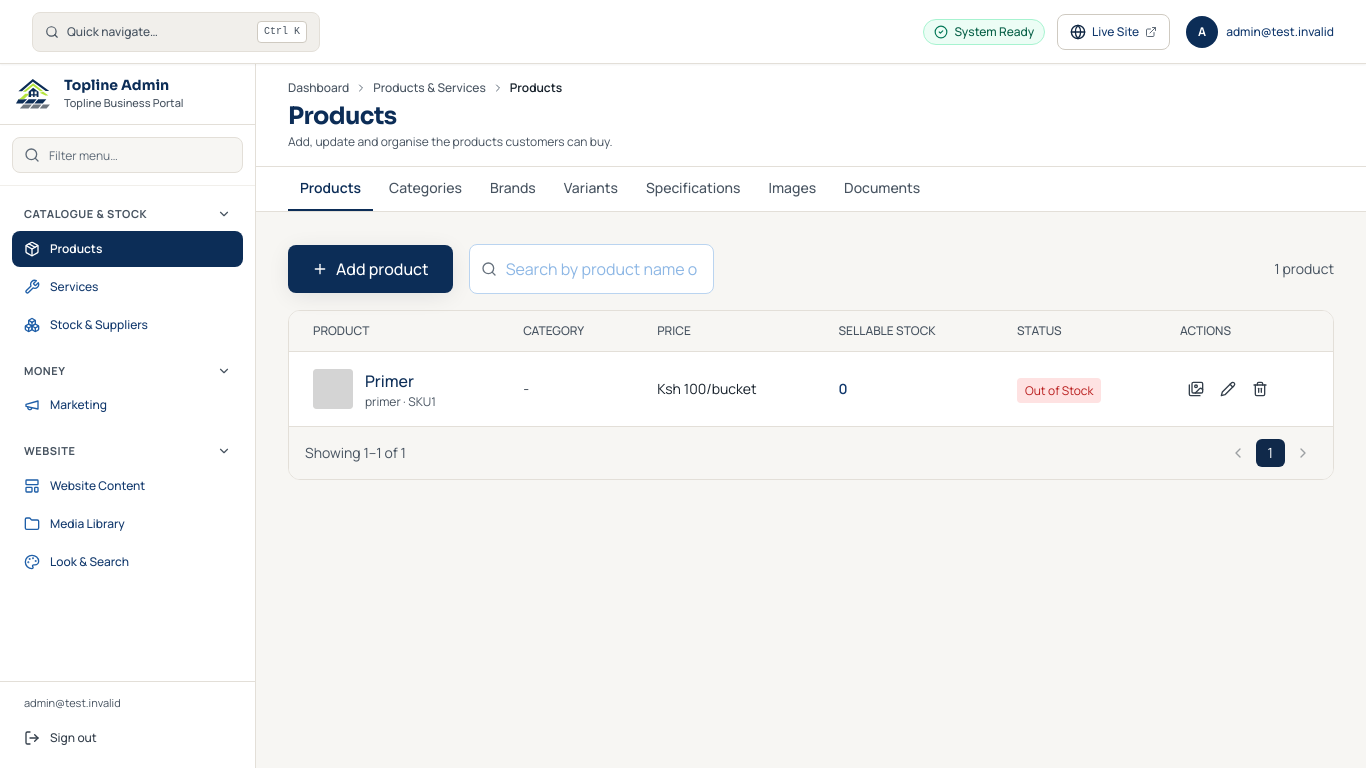
Scenario: admin: edit product › preloads the brand and sends it unchanged, so an edit never erases it
Later steps or results of the test are not shown.
Click the button titled "Edit product": coordinates (1228, 389) [1212, 373, 1244, 405]
(page scrolled)
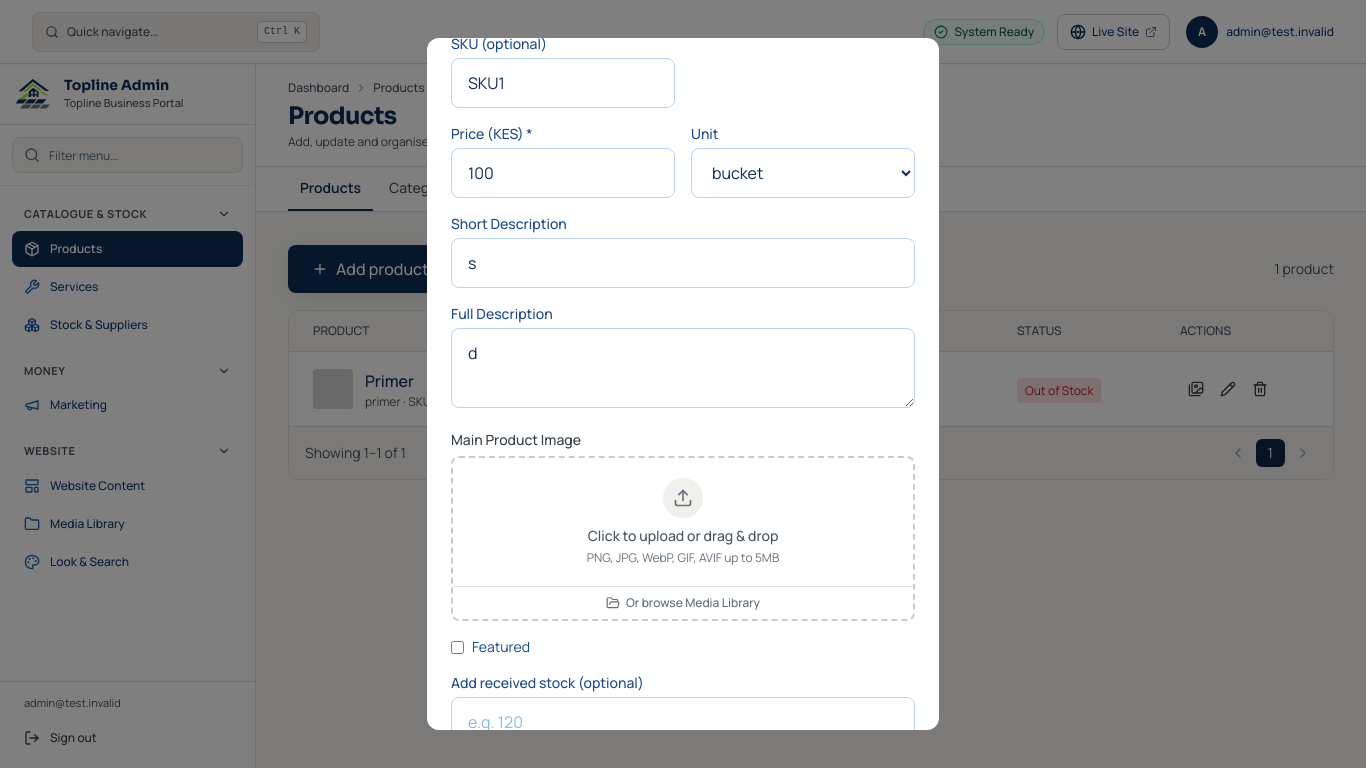
Expected: the field with placeholder "One line shown on product cards" below "Short Description" is shown, [451, 238, 915, 288]
